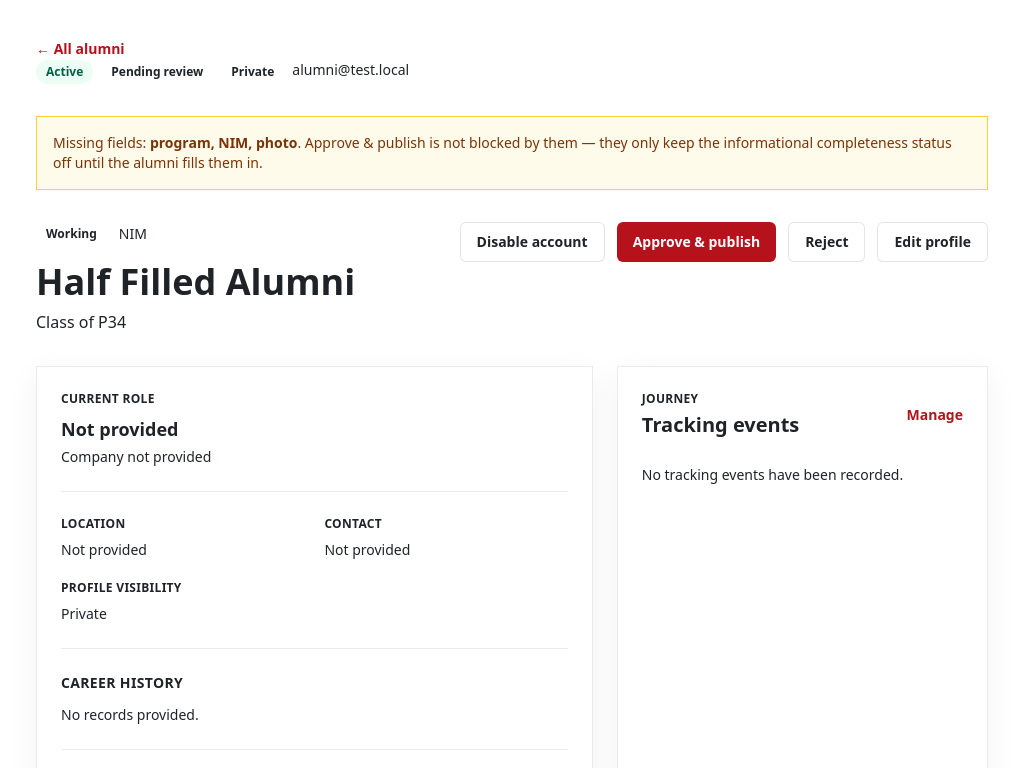
Alumni detail – review state › lets an admin approve an incomplete profile
Click the button "Approve & publish" at (696, 242), box x1=617 y1=222 x2=776 y2=262
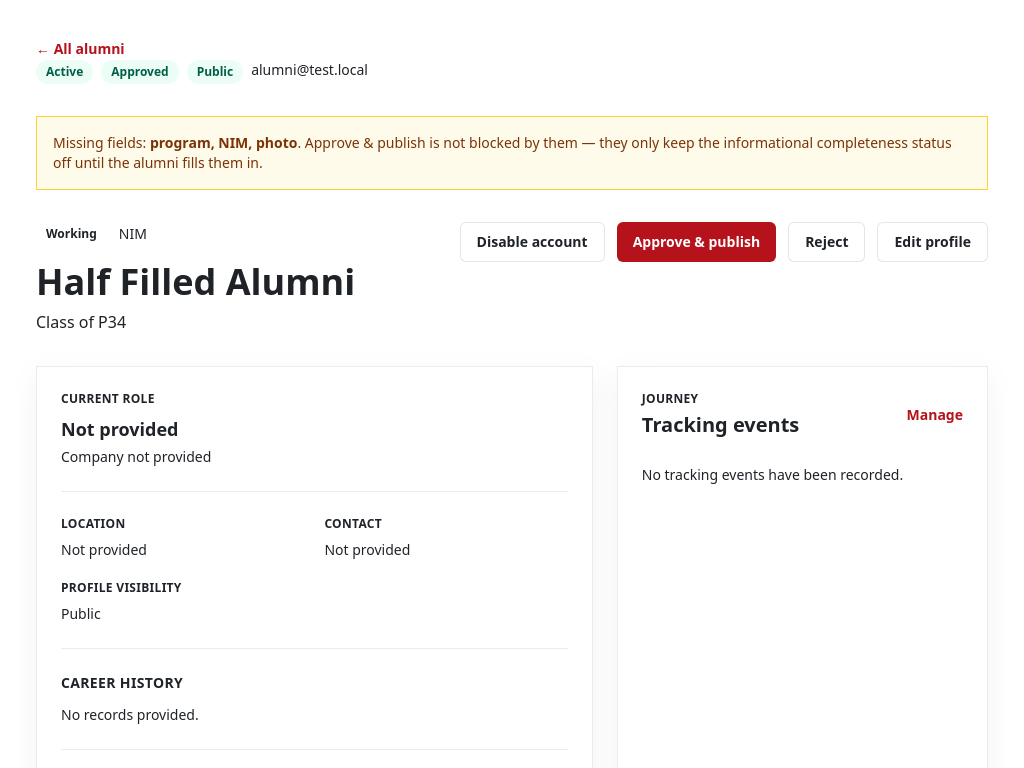
Expected: the text "Missing fields" is shown, x1=53 y1=133 x2=146 y2=152
Result: the text "Approved" is shown at x1=101 y1=60 x2=179 y2=84
Result: the text "Public" next to "alumni@test.local" is shown at x1=197 y1=63 x2=233 y2=80
